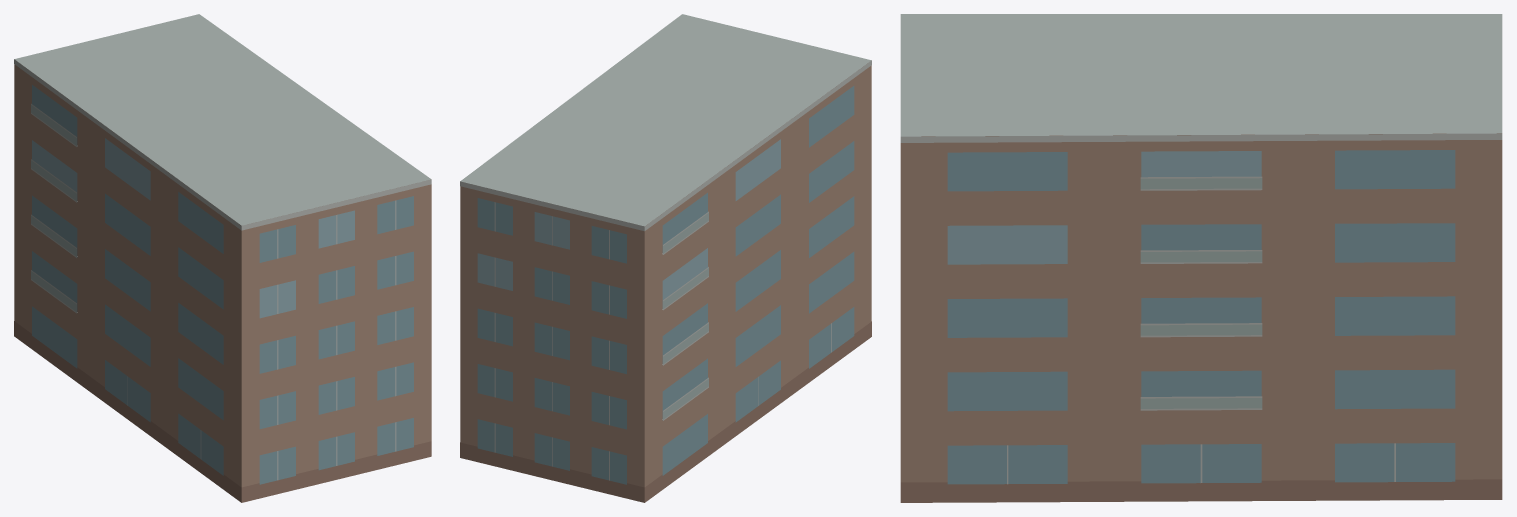
File: survey-upis-32587248.glb
3 renders of one model, left to right at view 1: azimuth 30°, elevation 25°; view 2: azimuth 150°, elevation 25°; view 3: azimuth 270°, elevation 25°, orthographic. The views are drawn at different scales.
Parts seen in each view (by area): view 1: survey-upis-32587248.tmp; view 2: survey-upis-32587248.tmp; view 3: survey-upis-32587248.tmp.
Boxes of the visible parts, x1=… form: survey-upis-32587248.tmp: x1=14, y1=14, x2=431, y2=502; survey-upis-32587248.tmp: x1=460, y1=14, x2=871, y2=502; survey-upis-32587248.tmp: x1=900, y1=14, x2=1502, y2=502.
Size of the model in its own units: 10.01 by 13.9 by 20.71.
